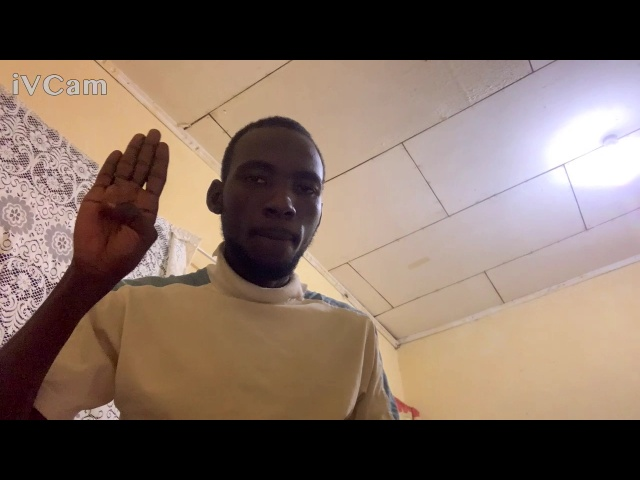s'il te plait: (67, 120, 171, 276)
